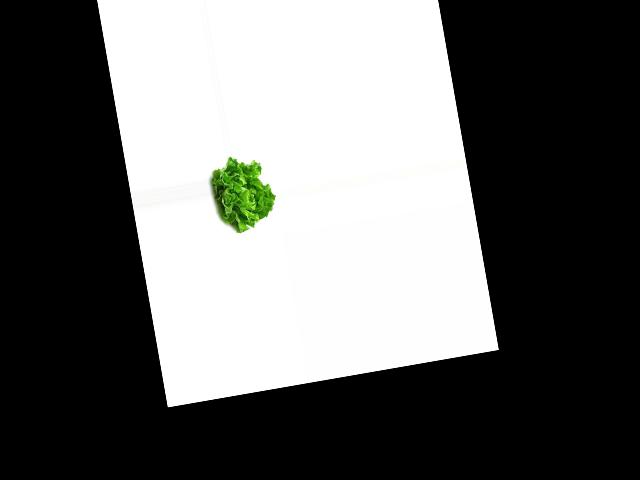lettuce: (206, 151, 279, 234)
